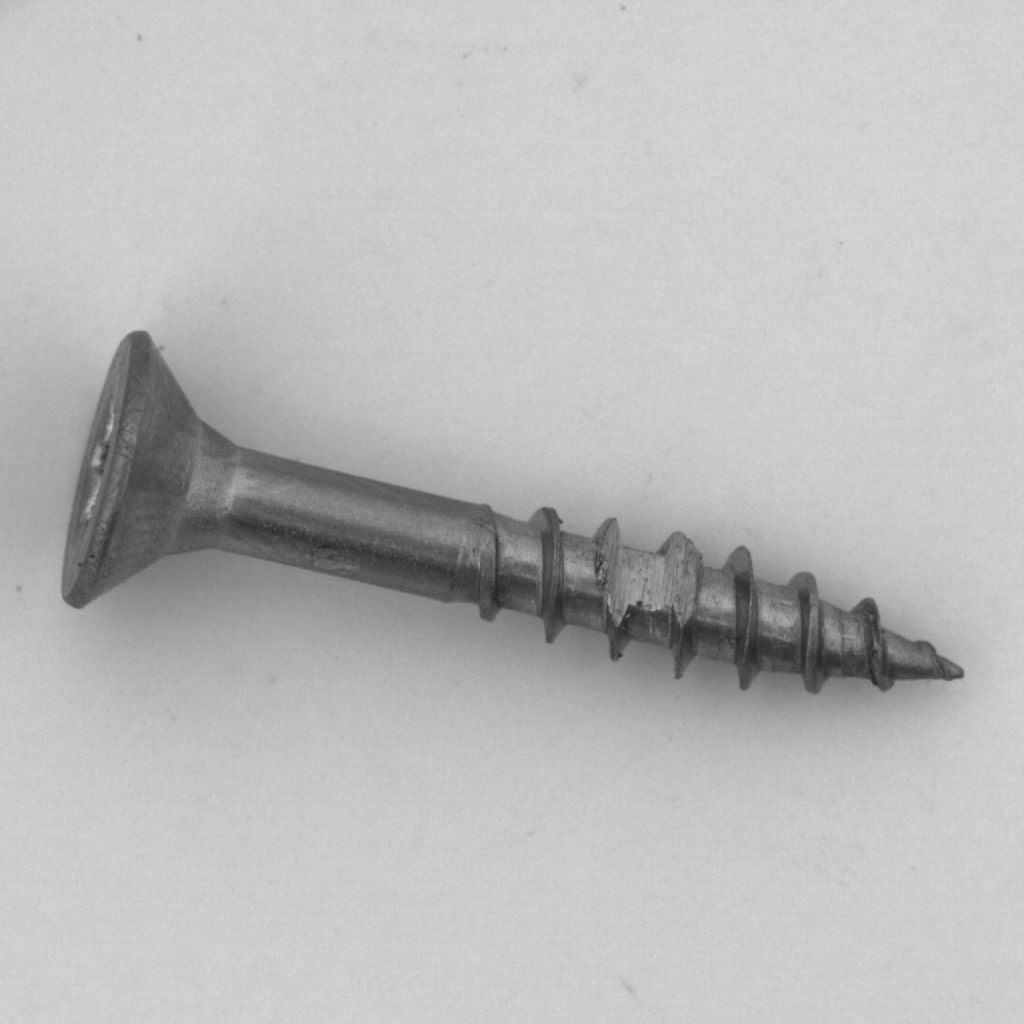thread_top: (547, 466, 751, 671)
